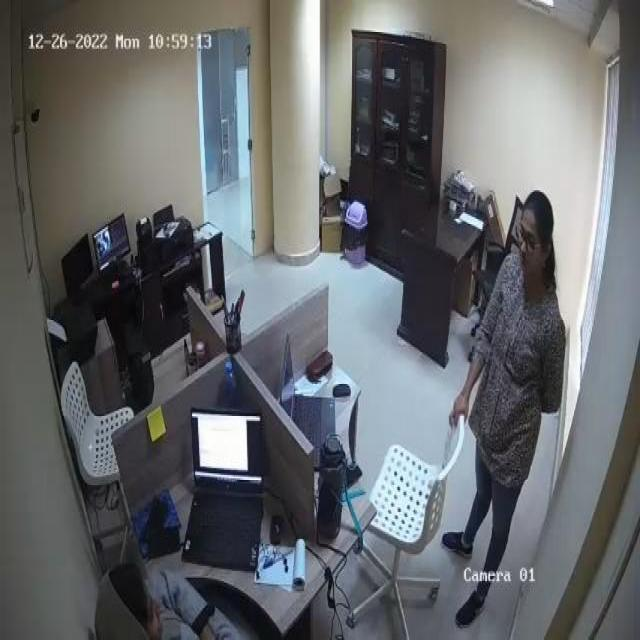bare_hand: (444, 381, 477, 436)
